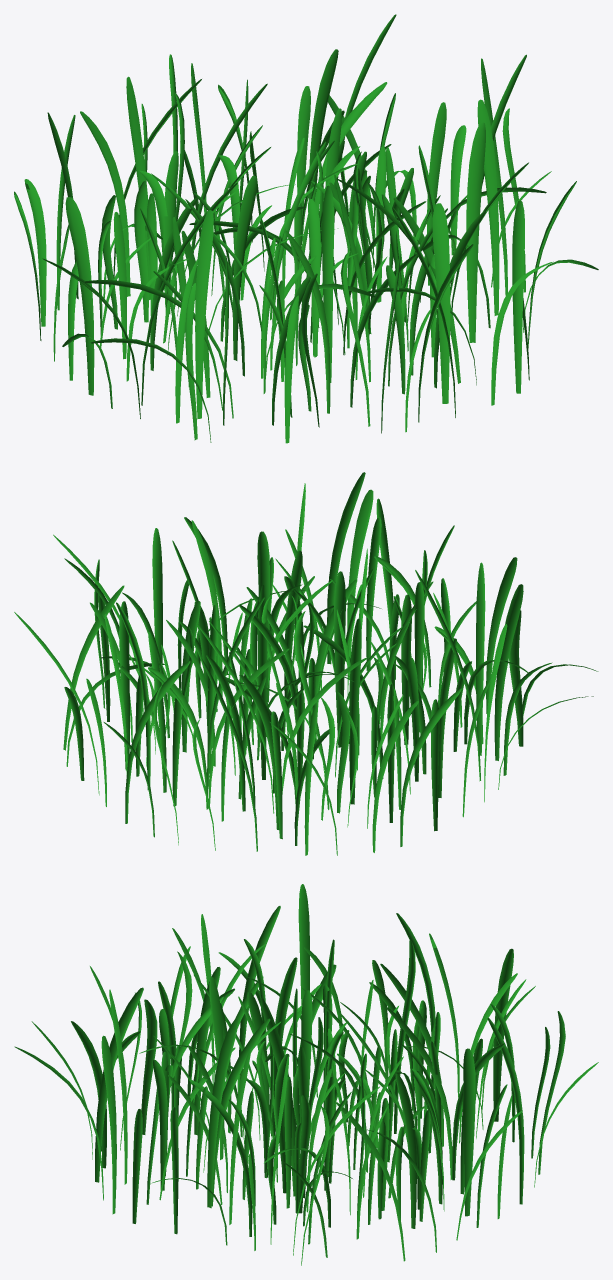
Rendered from grassObj.obj.
The picture shows the model from 3 angles, top to bottom: view 1: azimuth 30°, elevation 25°; view 2: azimuth 150°, elevation 25°; view 3: azimuth 270°, elevation 25°; orthographic projection. The views are drawn at different scales.
Parts seen in each view (by area): view 1: Grass_MWVizwork:Plane4339; view 2: Grass_MWVizwork:Plane4339; view 3: Grass_MWVizwork:Plane4339.
Part boxes in pixels (x1=…): Grass_MWVizwork:Plane4339: x1=14, y1=14, x2=598, y2=443; Grass_MWVizwork:Plane4339: x1=14, y1=472, x2=598, y2=855; Grass_MWVizwork:Plane4339: x1=14, y1=884, x2=598, y2=1265.
Bounding box in the file's own units: 3.46 × 1.41 × 3.65.
